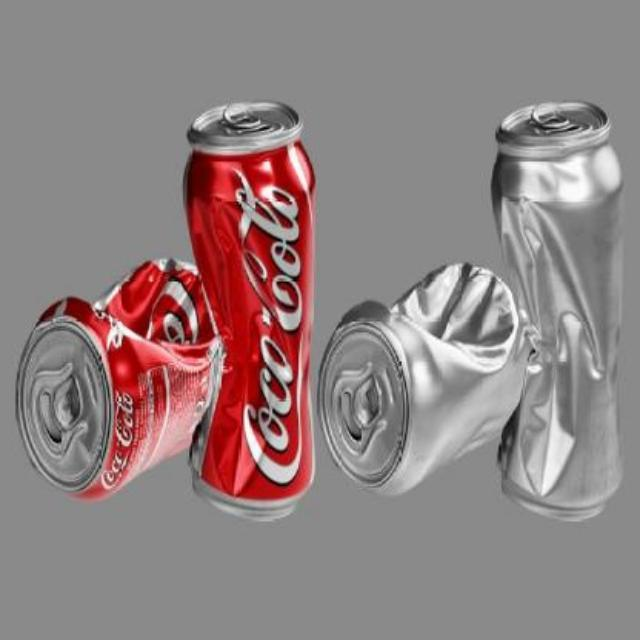metal: (491, 100, 620, 517), (185, 100, 312, 517), (317, 263, 531, 494), (15, 258, 215, 497)
